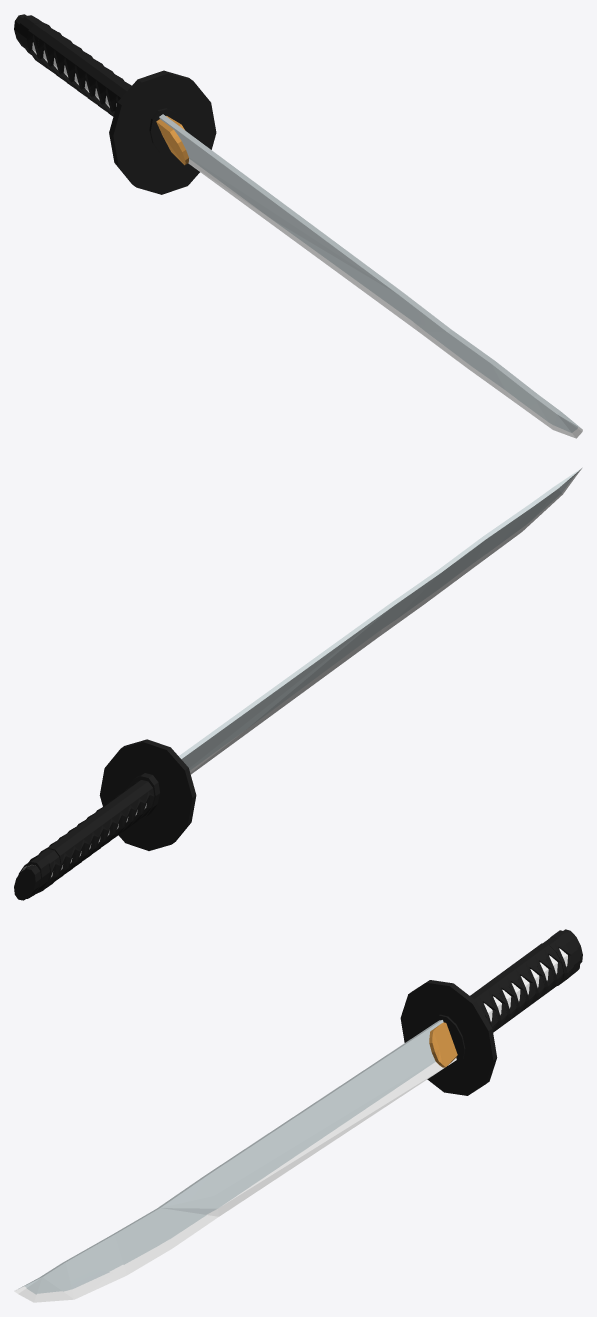
File: Katana.fbx
3 views of the same model, one above another, from view 1: azimuth 30°, elevation 25°; view 2: azimuth 150°, elevation 25°; view 3: azimuth 330°, elevation 25° (orthographic). The views are drawn at different scales.
Visible parts, largest first — view 1: group1141768986; view 2: group1141768986; view 3: group1141768986.
Part boxes in pixels (box(x1,y1,x2,y2)): group1141768986: box(14, 14, 582, 438); group1141768986: box(14, 467, 582, 900); group1141768986: box(14, 929, 582, 1302).
Bounding box in the file's own units: 0.4627 × 4.57 × 0.513.
